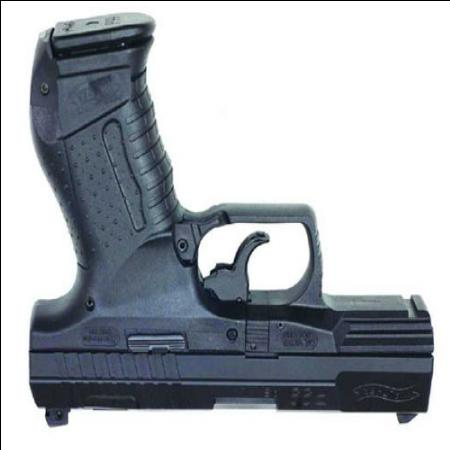Pistol: (27, 20, 432, 426)
